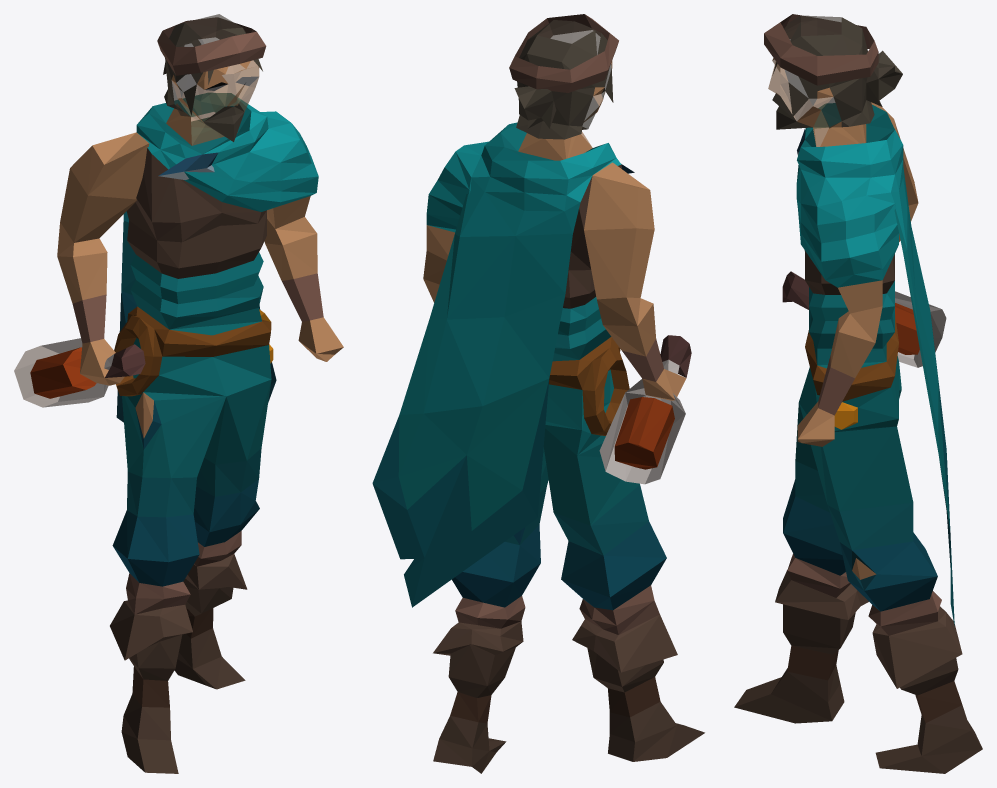
The model's file is barracuda-trials.gltf.
The picture shows the model from 3 angles, left to right: view 1: azimuth 30°, elevation 25°; view 2: azimuth 150°, elevation 25°; view 3: azimuth 270°, elevation 25°; orthographic projection. The views are drawn at different scales.
Bounding box in the file's own units: 79.17 × 197 × 60.83.
2 materials, 2 textured.
